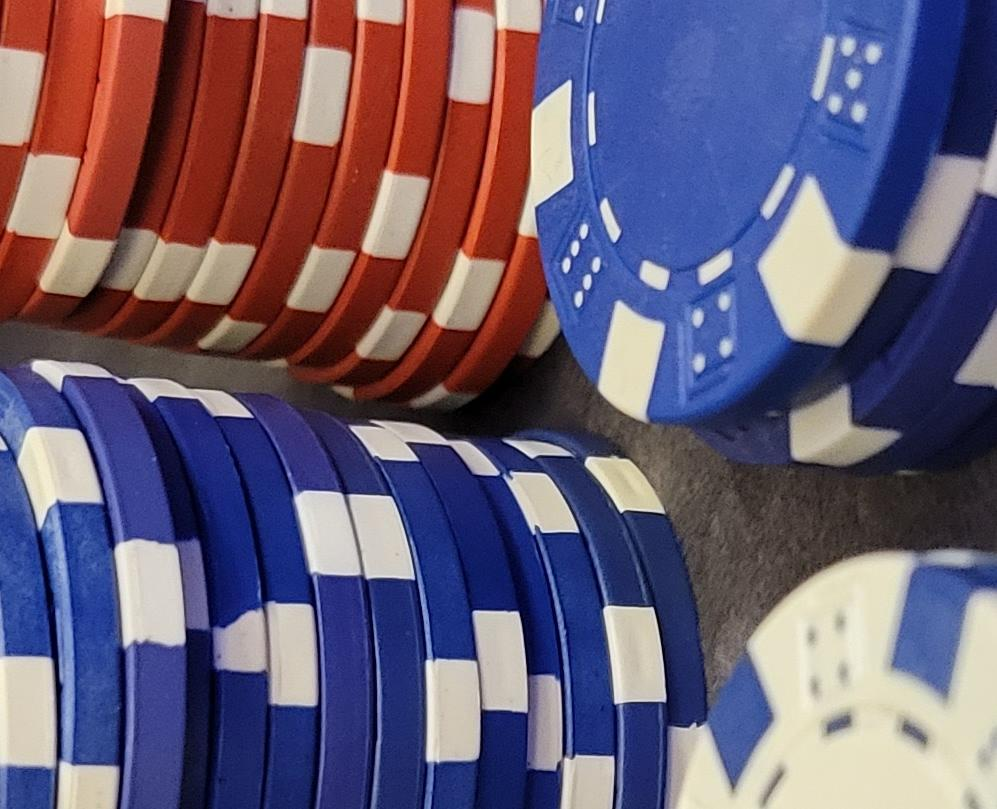Chip: (1, 279, 388, 809)
